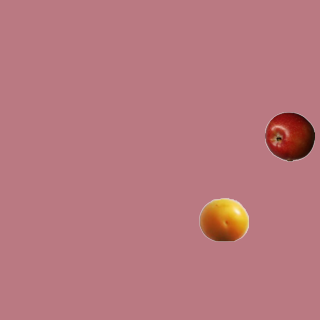Apple Braeburn: (264, 111, 314, 161)
Cherry Wax Yellow: (198, 194, 248, 244)
